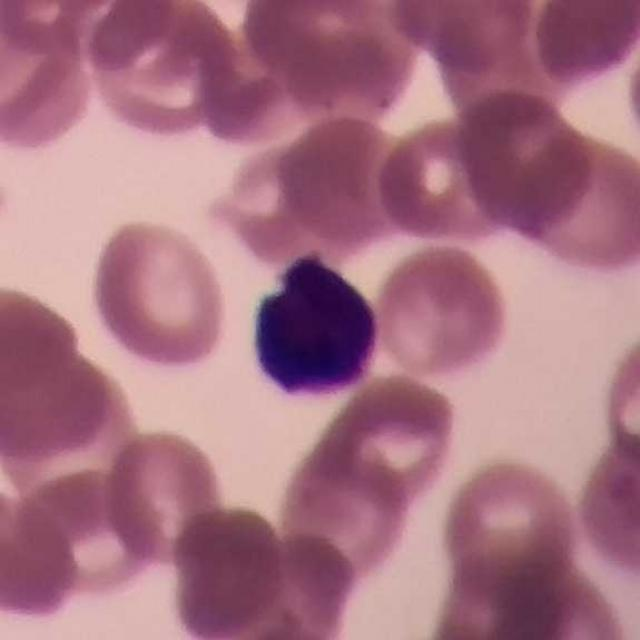Lymphocyte: (236, 241, 390, 412)
RBC: (80, 0, 249, 144), (86, 214, 232, 374), (436, 451, 584, 606), (9, 467, 167, 610), (452, 84, 596, 235), (370, 238, 516, 383), (236, 0, 425, 112), (309, 371, 462, 508), (271, 110, 415, 250), (274, 435, 414, 578), (511, 124, 639, 280), (373, 110, 519, 246), (98, 423, 229, 570), (0, 317, 117, 469), (165, 500, 292, 640), (421, 553, 624, 640), (0, 2, 100, 156), (0, 476, 83, 625), (570, 424, 640, 592), (386, 0, 540, 75), (0, 277, 86, 406), (527, 0, 640, 89), (594, 318, 640, 477), (0, 0, 117, 57), (622, 10, 640, 168)
